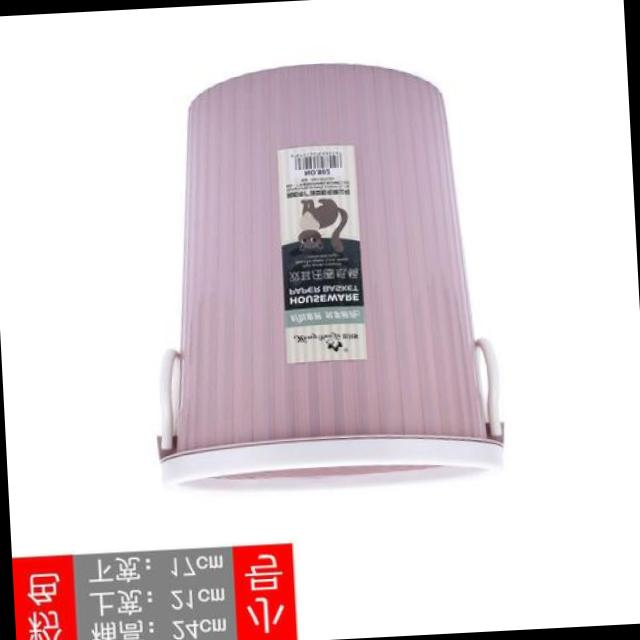dustbin: (129, 46, 518, 502)
